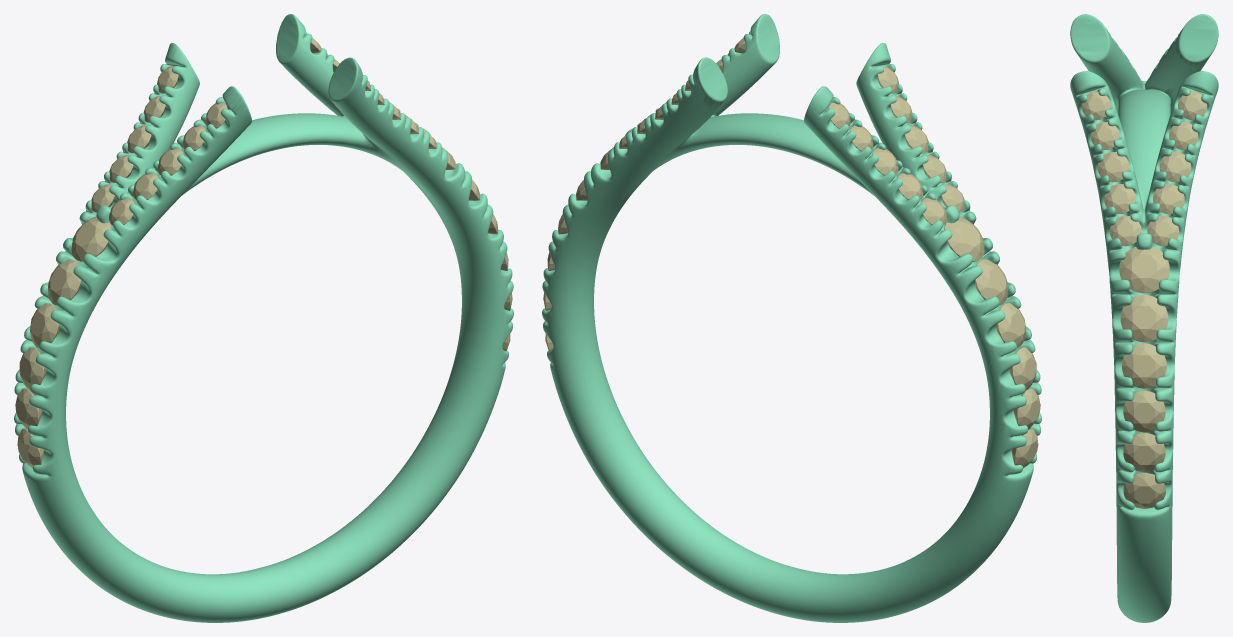
3 views of the same model, side by side, from view 1: azimuth 30°, elevation 25°; view 2: azimuth 150°, elevation 25°; view 3: azimuth 270°, elevation 25° (orthographic).
Visible parts, largest first — view 1: Metal02, Diamond_Gem, Diamond_Gem.005, Diamond_Gem.004, Diamond_Gem.003, Diamond_Gem.002; view 2: Metal02, Diamond_Gem, Diamond_Gem.005, Diamond_Gem.004, Diamond_Gem.003, Diamond_Gem.002; view 3: Metal02, Diamond_Gem.031, Diamond_Gem.026, Diamond_Gem.027, Diamond_Gem.028, Diamond_Gem.029, Diamond_Gem.030, Diamond_Gem.021, Diamond_Gem.020, Diamond_Gem.023, Diamond_Gem.018, Diamond_Gem.022 (+5 smaller).
Part boxes in pixels (left/top/right/bottom): Metal02: left=14, top=14, right=513, bottom=622; Diamond_Gem: left=71, top=216, right=111, bottom=261; Diamond_Gem.005: left=48, top=259, right=80, bottom=305; Diamond_Gem.004: left=30, top=303, right=59, bottom=347; Diamond_Gem.003: left=19, top=347, right=46, bottom=389; Diamond_Gem.002: left=15, top=388, right=42, bottom=429; Metal02: left=542, top=14, right=1041, bottom=622; Diamond_Gem: left=944, top=216, right=984, bottom=261; Diamond_Gem.005: left=975, top=259, right=1008, bottom=305; Diamond_Gem.004: left=996, top=303, right=1025, bottom=347; Diamond_Gem.003: left=1009, top=347, right=1036, bottom=389; Diamond_Gem.002: left=1013, top=388, right=1040, bottom=429; Metal02: left=1070, top=14, right=1218, bottom=622; Diamond_Gem.031: left=1119, top=246, right=1169, bottom=293; Diamond_Gem.026: left=1120, top=295, right=1168, bottom=342; Diamond_Gem.027: left=1122, top=343, right=1166, bottom=388; Diamond_Gem.028: left=1123, top=390, right=1165, bottom=432; Diamond_Gem.029: left=1123, top=433, right=1165, bottom=472; Diamond_Gem.030: left=1123, top=473, right=1165, bottom=508; Diamond_Gem.021: left=1109, top=215, right=1141, bottom=246; Diamond_Gem.020: left=1147, top=215, right=1178, bottom=246; Diamond_Gem.023: left=1097, top=152, right=1129, bottom=182; Diamond_Gem.018: left=1159, top=152, right=1191, bottom=182; Diamond_Gem.022: left=1104, top=184, right=1135, bottom=213.
Size of the model in its own units: 20.78 by 23.02 by 5.58.
